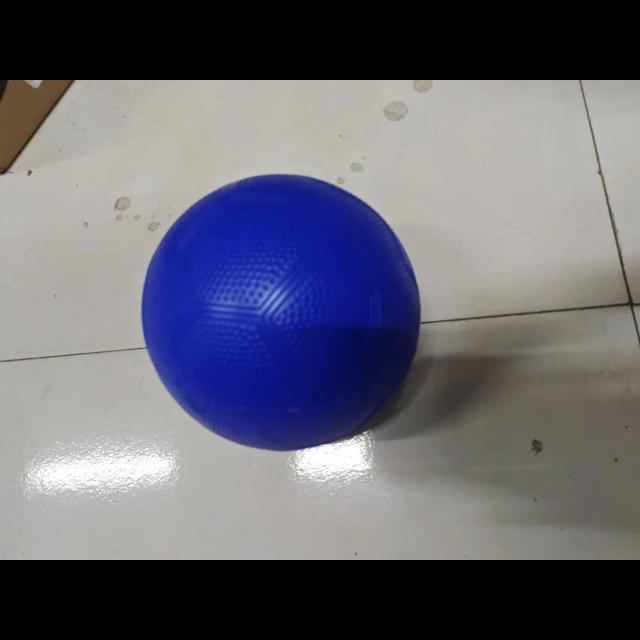B: (132, 170, 426, 456)
